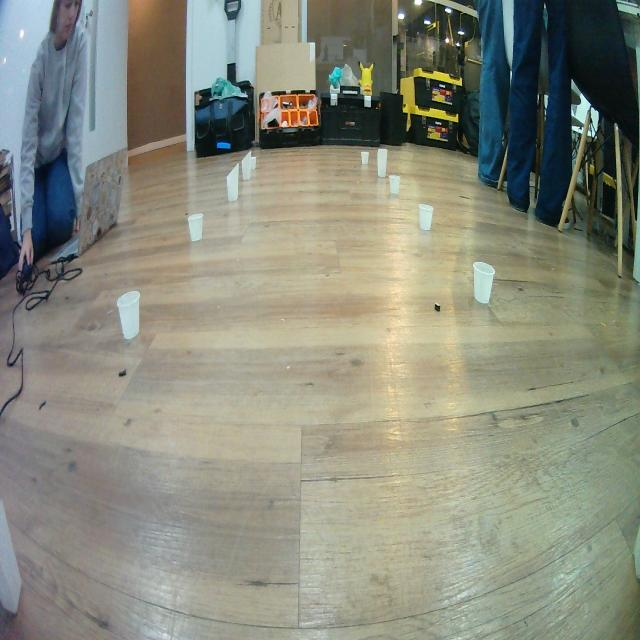erva_daninha: (226, 162, 240, 203), (240, 148, 252, 181), (377, 148, 388, 178)
planta: (117, 290, 141, 341), (472, 260, 496, 304), (187, 212, 204, 242), (418, 203, 434, 232), (388, 174, 401, 196), (361, 150, 369, 166), (250, 156, 256, 170)
